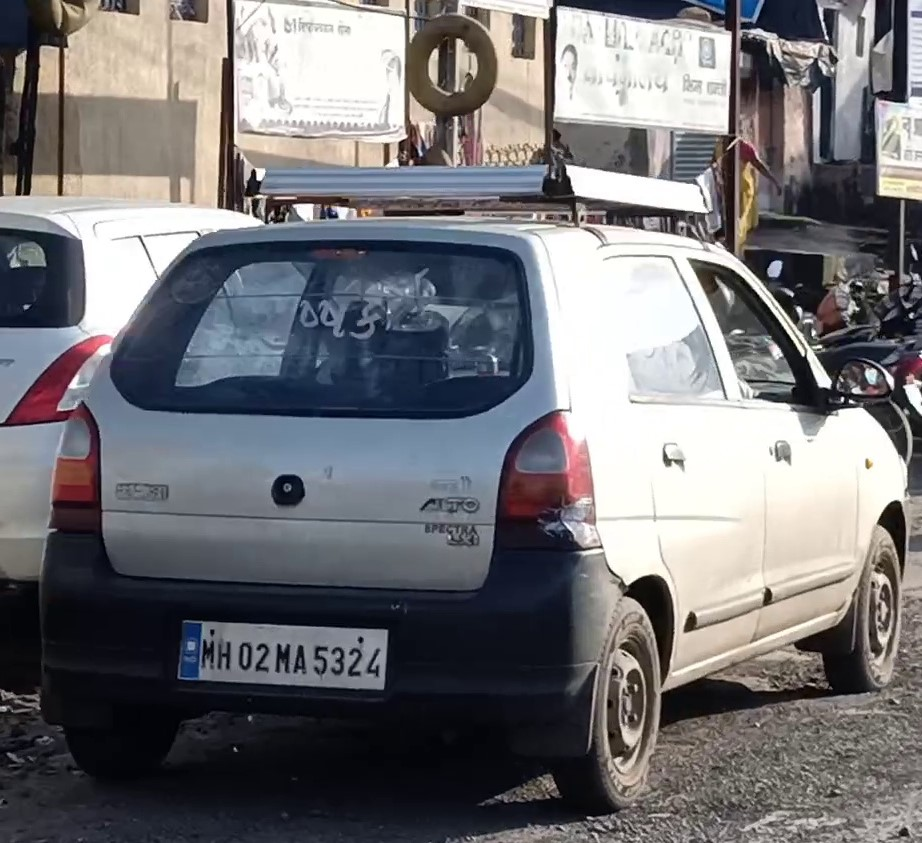MH02MA5324: (176, 620, 388, 691)
